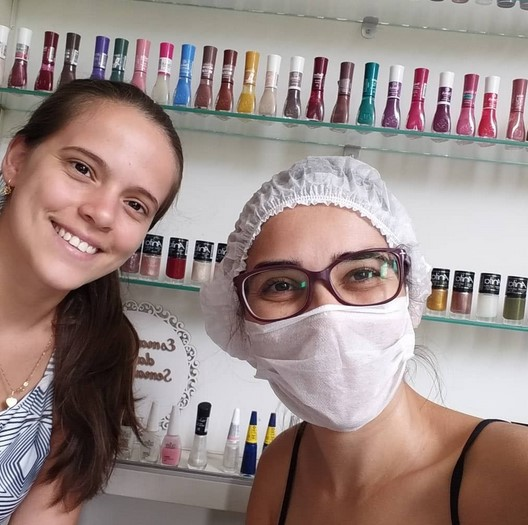face_no_mask: (8, 81, 185, 298)
face_with_mask: (219, 155, 424, 427)
